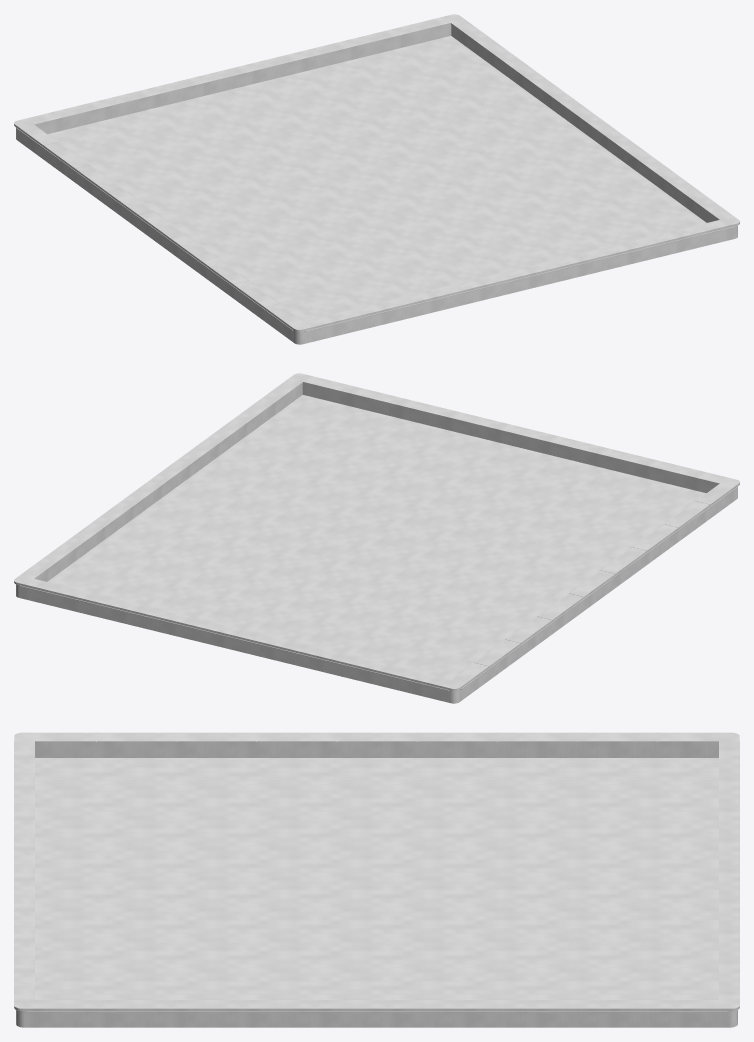
The model's file is SM_Homes_H03_Roof.glb.
3 views of the same model, one above another, from view 1: azimuth 30°, elevation 25°; view 2: azimuth 150°, elevation 25°; view 3: azimuth 270°, elevation 25° (orthographic). The views are drawn at different scales.
Visible parts, largest first — view 1: SM_Homes_H03_Roof; view 2: SM_Homes_H03_Roof; view 3: SM_Homes_H03_Roof.
Boxes of the visible parts, x1,y1,x2,y2 form: SM_Homes_H03_Roof: [14, 14, 739, 344]; SM_Homes_H03_Roof: [14, 373, 739, 703]; SM_Homes_H03_Roof: [14, 732, 739, 1027].
Size of the model in its own units: 9.06 by 0.344 by 10.06.
5 materials, 5 textured.
